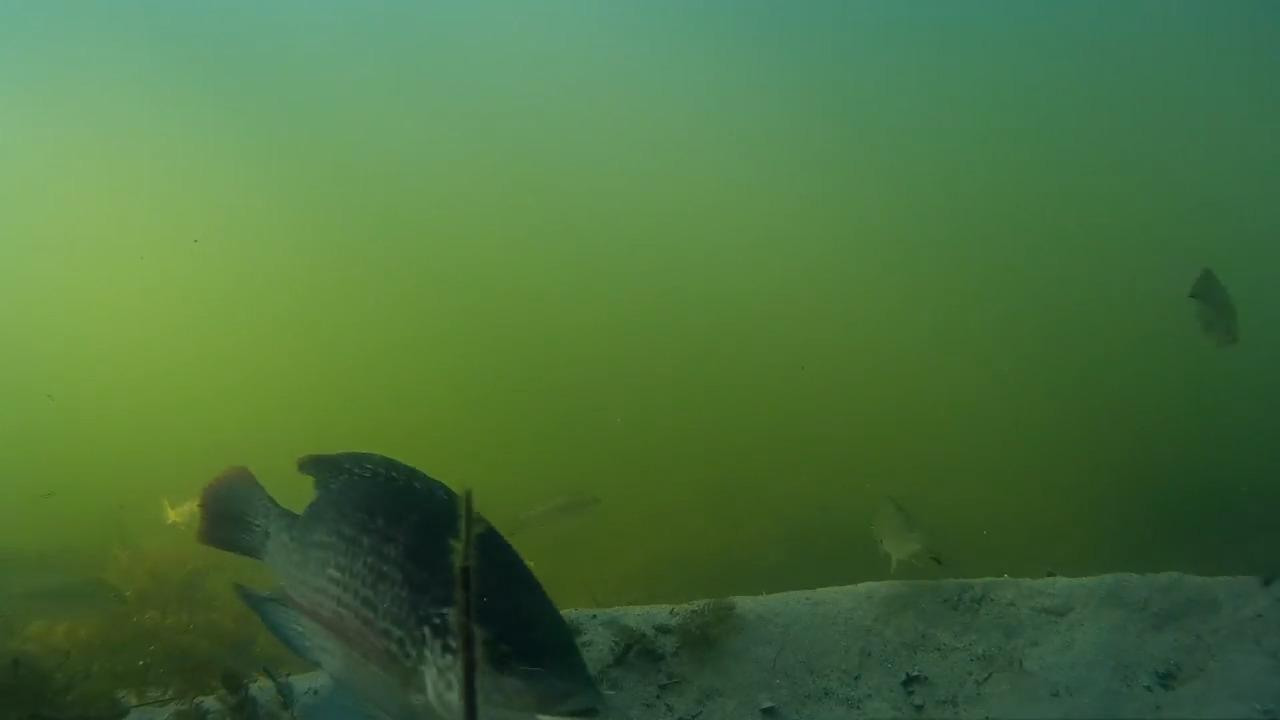Tilapia: (172, 432, 619, 720), (852, 486, 959, 590)
